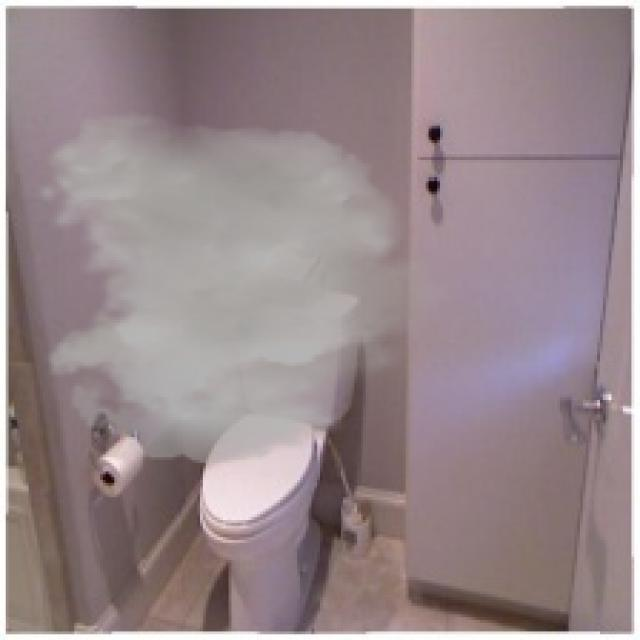Smoke: (34, 111, 457, 463)
